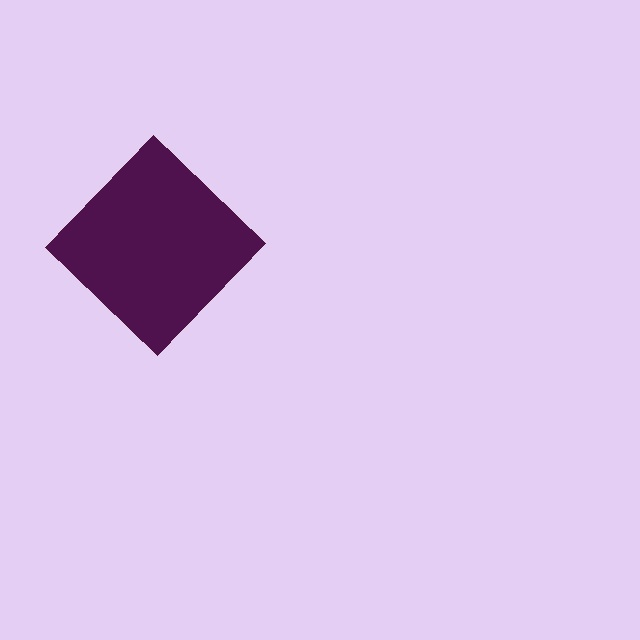square: (45, 134, 266, 355)
